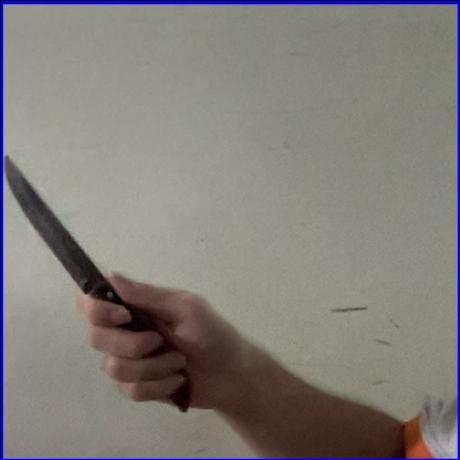1: (73, 262, 460, 460)
weapon: (0, 154, 197, 415)
